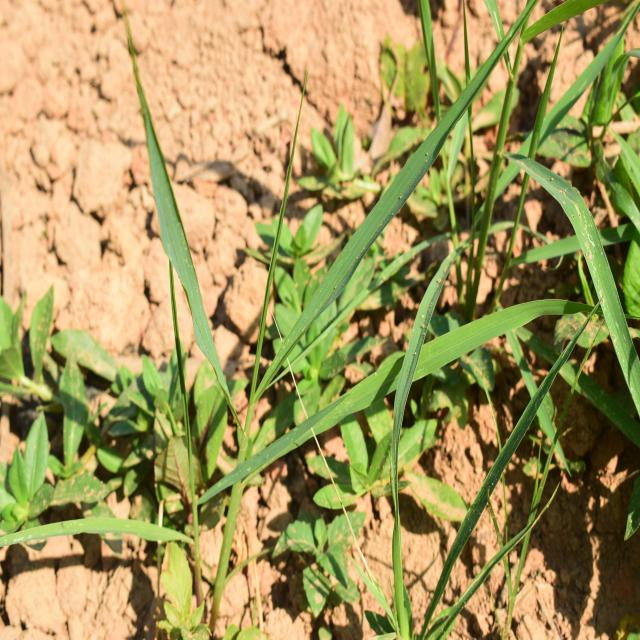green_foxtail: (111, 44, 537, 510)
